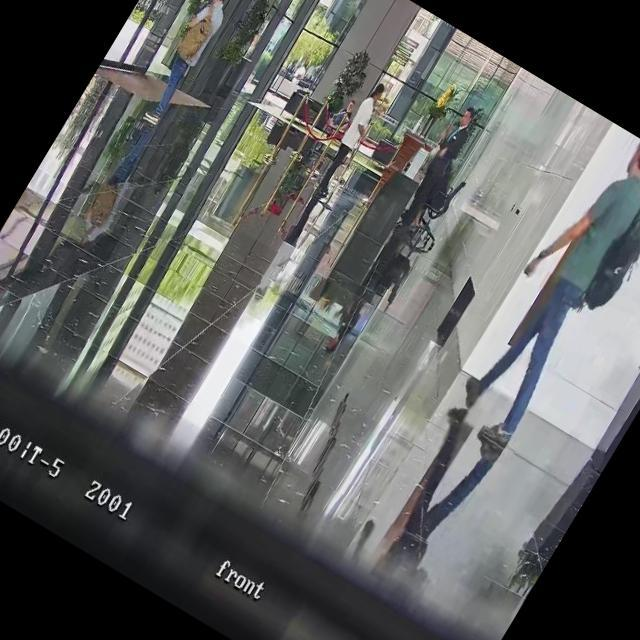person: (434, 121, 640, 456), (135, 0, 240, 124), (391, 101, 484, 232), (308, 79, 393, 202), (321, 96, 363, 148), (290, 57, 314, 86), (282, 58, 302, 82)
